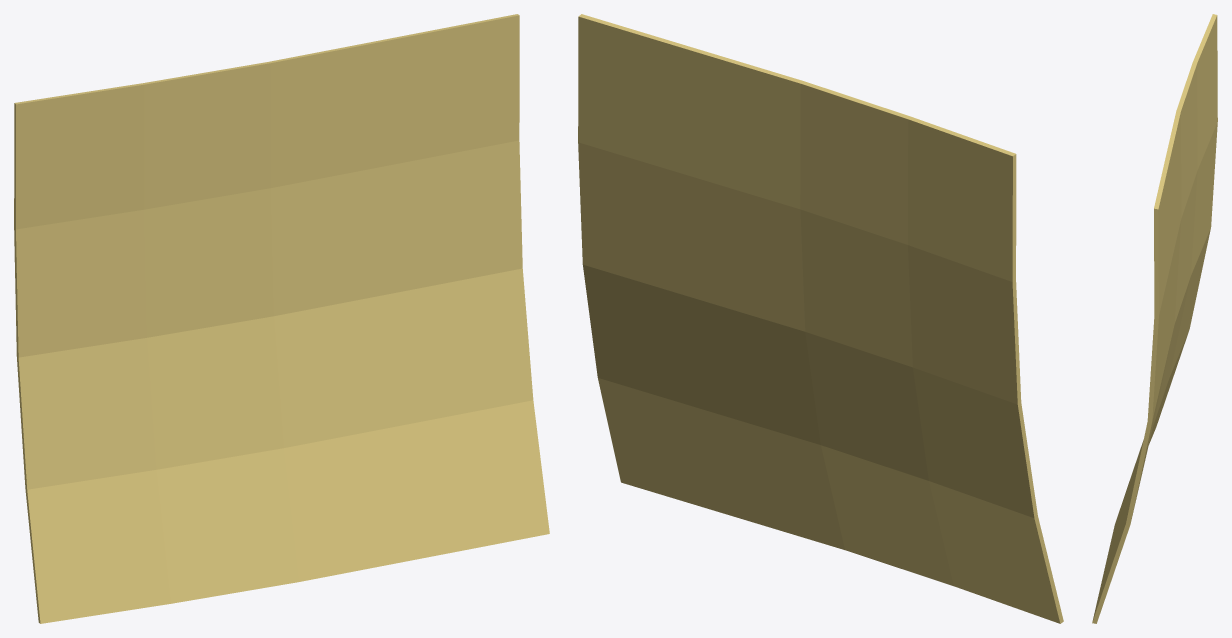
The model's file is Lap1.fbx.
3 renders of one model, left to right at view 1: azimuth 30°, elevation 25°; view 2: azimuth 150°, elevation 25°; view 3: azimuth 270°, elevation 25°, orthographic. The views are drawn at different scales.
Parts seen in each view (by area): view 1: Lap; view 2: Lap; view 3: Lap.
Part boxes in pixels (x1,y1,x2,y2): Lap: [14, 14, 549, 623]; Lap: [578, 14, 1063, 623]; Lap: [1092, 14, 1217, 623].
Size of the model in its own units: 13.68 by 13.35 by 3.64.
